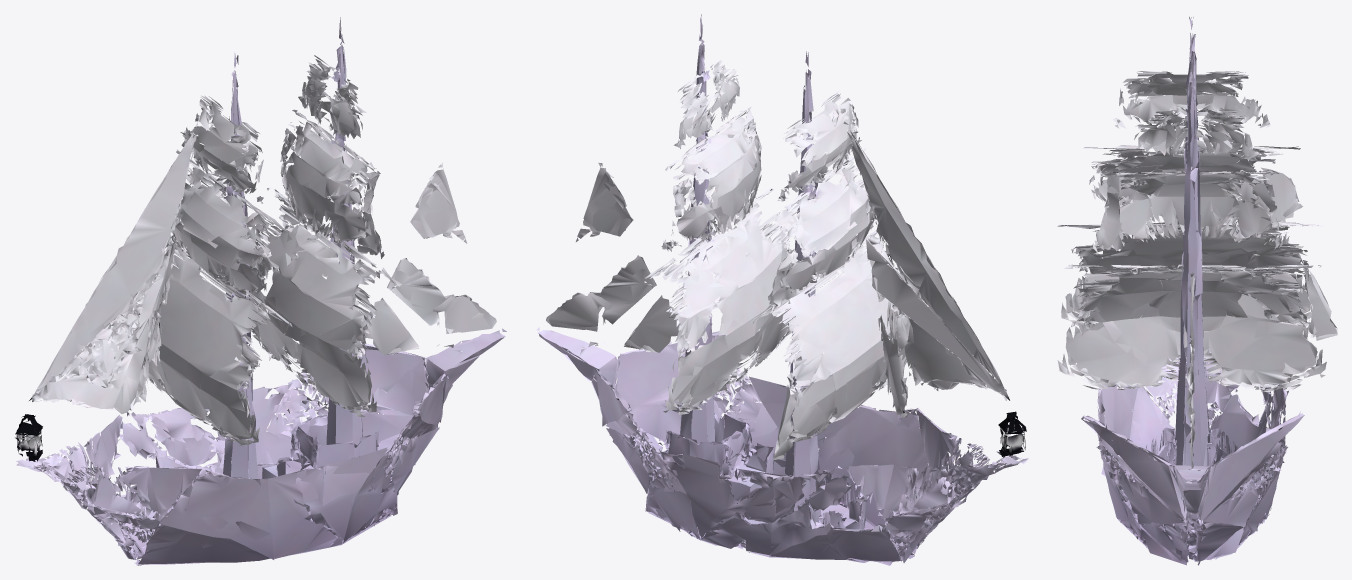
The model's file is paper_ship.glb.
3 renders of one model, left to right at view 1: azimuth 30°, elevation 25°; view 2: azimuth 150°, elevation 25°; view 3: azimuth 270°, elevation 25°, orthographic.
Parts seen in each view (by area): view 1: paper_ship_body; view 2: paper_ship_body; view 3: paper_ship_body.
Boxes of the visible parts, bbox=[...] form: paper_ship_body: bbox=[15, 17, 506, 565]; paper_ship_body: bbox=[536, 14, 1028, 565]; paper_ship_body: bbox=[1057, 17, 1337, 565].
Size of the model in its own units: 8.99 by 8.79 by 4.54.
Materials: 1 (1 with a texture image).
